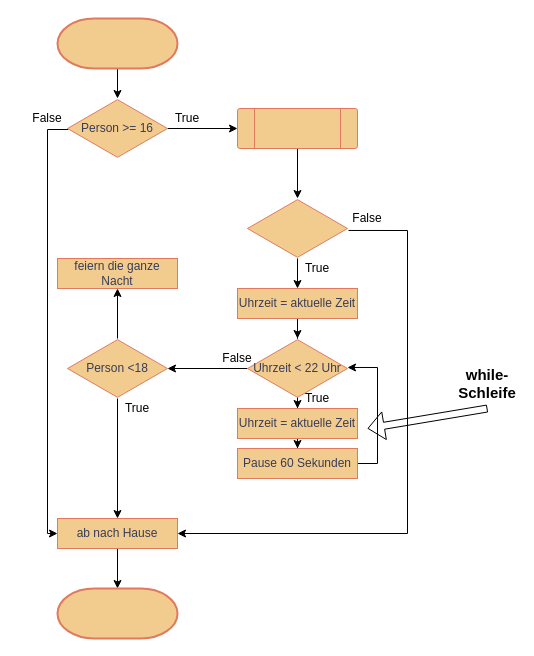
The diagram is 534 pixels wide and 656 high, and some of its shapes have lost their labels. The shapes that lost their labels are listed below. From the top down, each one's box as (x1, y1, x2, y2) in pixels, then its label:
(56, 17, 178, 69): Einlasschecker Start
(236, 108, 358, 148): Tasche durchsuchen
(246, 198, 348, 258): Check OK
(56, 587, 178, 639): Einlasschecker Ende
